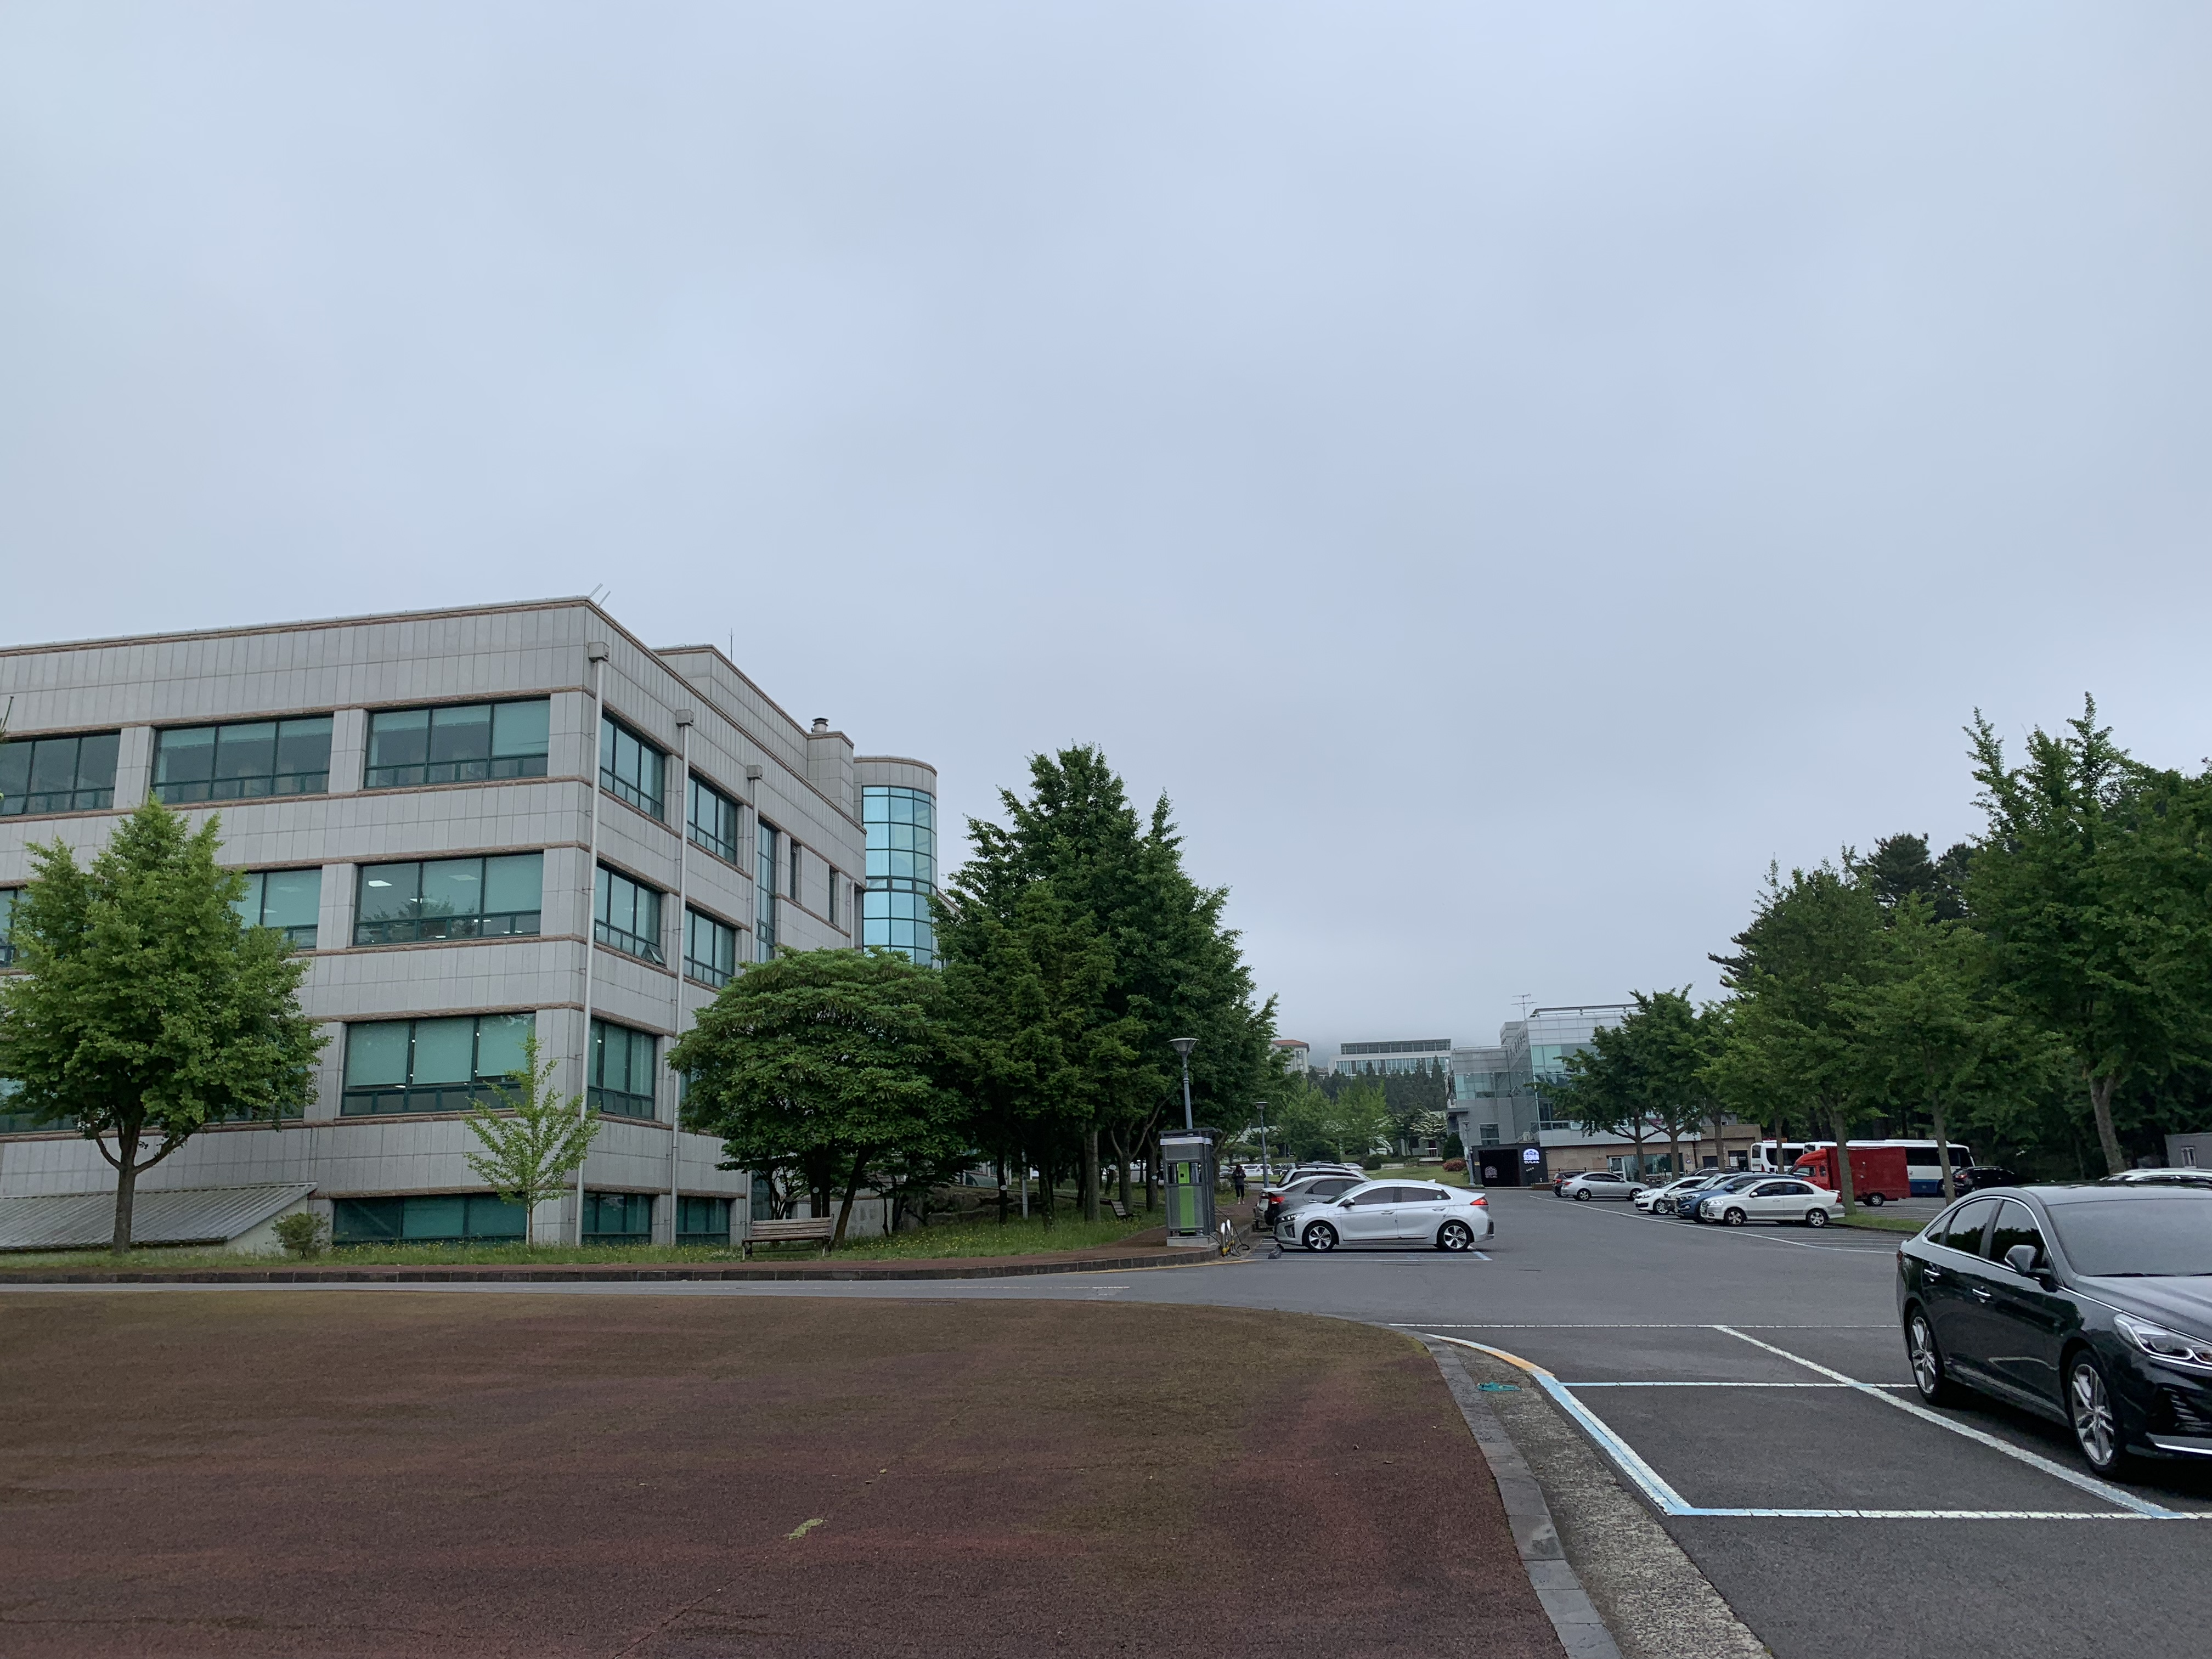Global House: (1456, 1000, 1777, 1188)
Second Library: (5, 599, 941, 1286)
